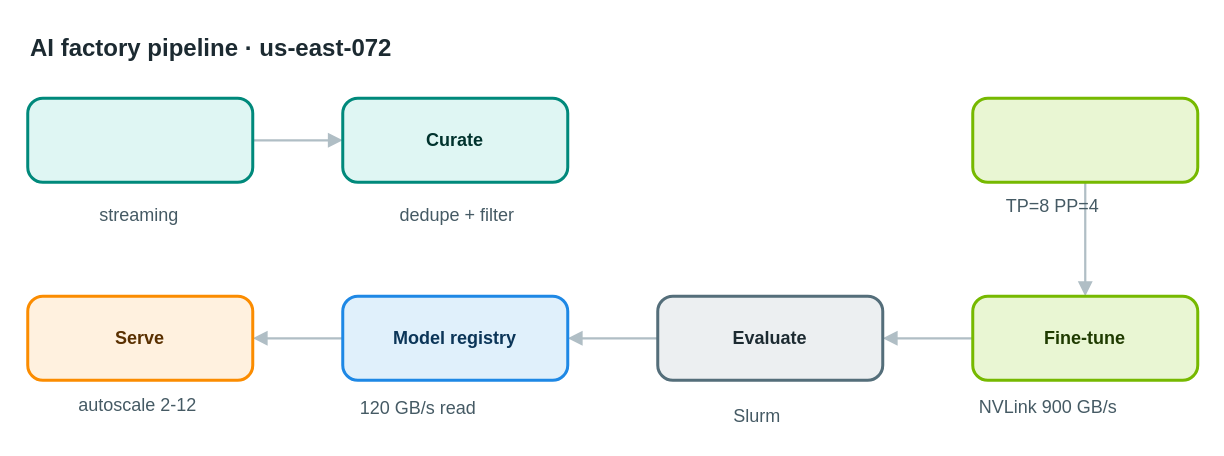
This 1224x456 diagram has some shape labels left out. Each missing label, with the centre of its shape:
Ingest: the point at 140,139
Pretrain: the point at 1084,139
